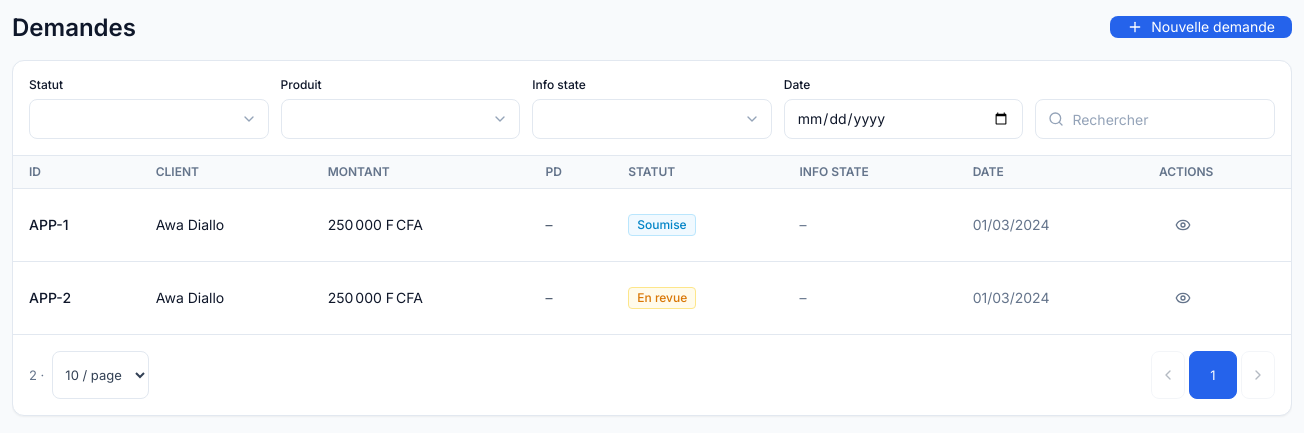
Test case: ApplicationsListPage › filters rows by status
Select "En revue" in the dropdown labelled "Statut" at (149, 119), box left=29, top=99, right=269, bottom=139
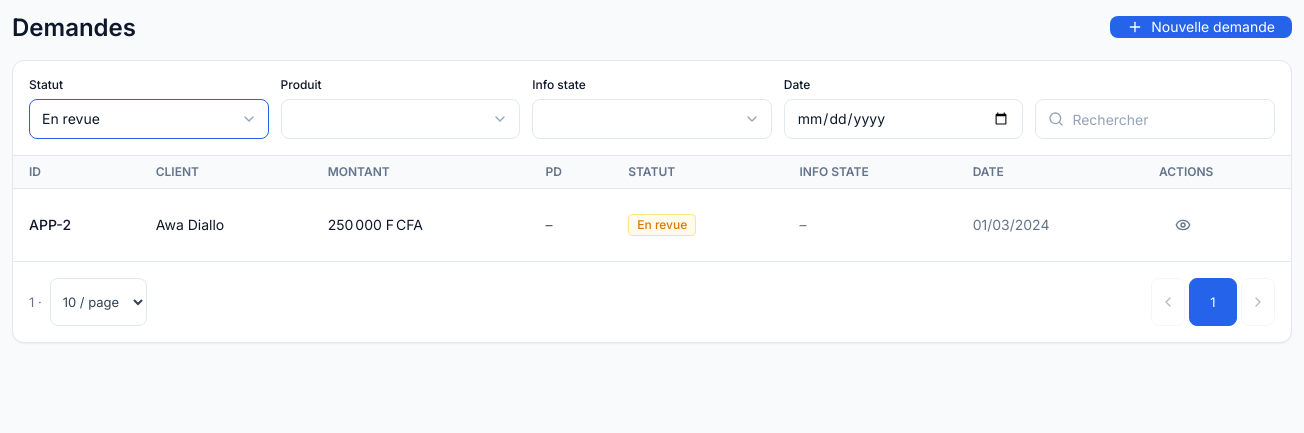
Check: the text "APP-2" is shown, box left=13, top=188, right=140, bottom=262
Check: the text "APP-1" is gone
